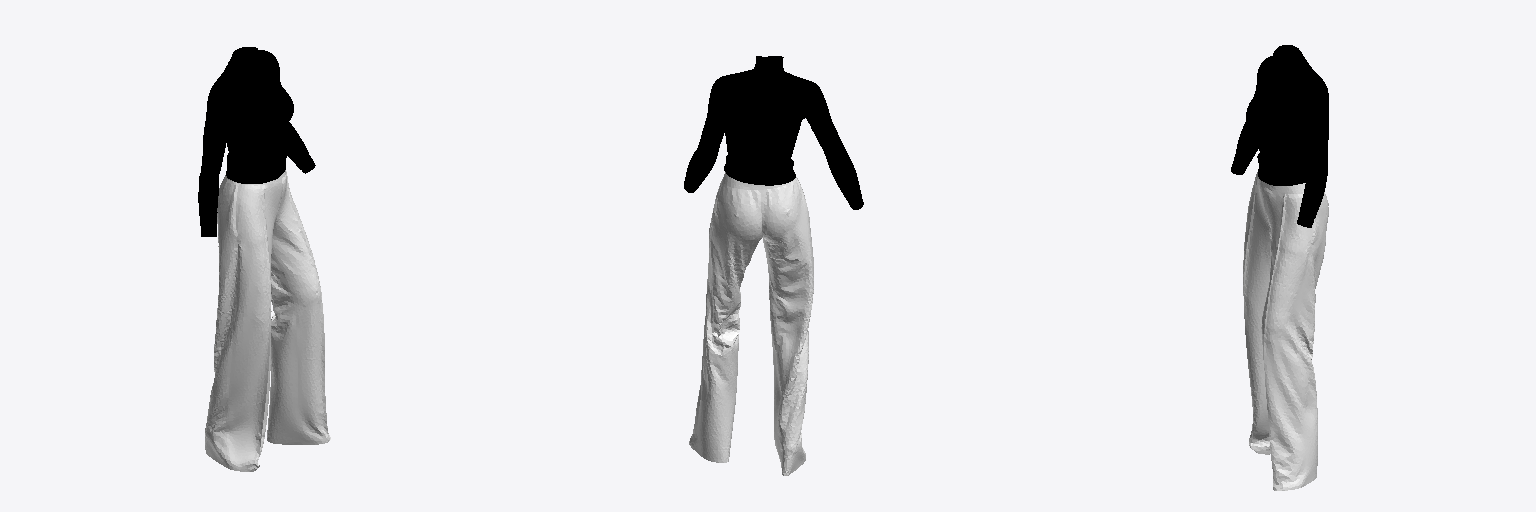
The model's file is DA_HighNeck+WidePants_0000117.obj.
3 views of the same model, side by side, from view 1: azimuth 30°, elevation 25°; view 2: azimuth 150°, elevation 25°; view 3: azimuth 270°, elevation 25° (orthographic).
Bounding box in the file's own units: 0.6257 × 1.63 × 0.3598.